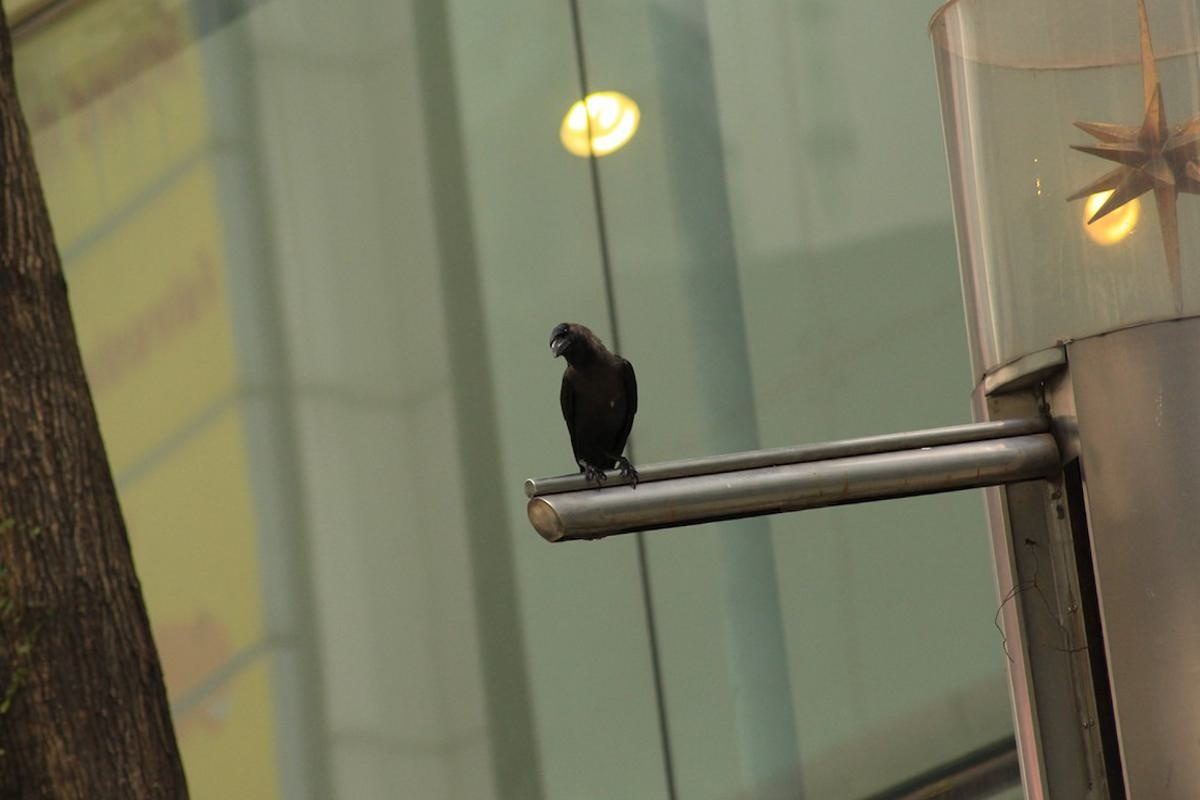crow: (540, 318, 653, 498)
